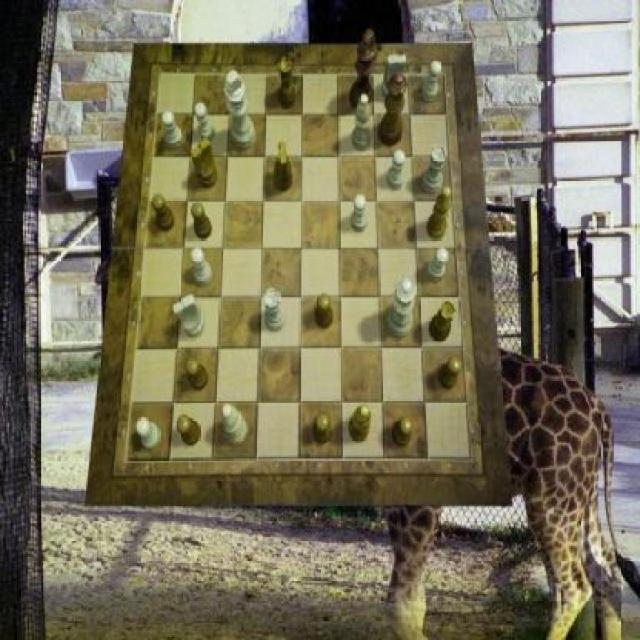bishop: (428, 186, 452, 240), (348, 403, 370, 442)
black-bishop: (349, 29, 377, 112)
black-king: (191, 137, 218, 189), (274, 143, 293, 192)
black-knight: (152, 194, 175, 231), (190, 202, 212, 239), (438, 357, 462, 389), (186, 358, 209, 391), (177, 416, 201, 446), (392, 417, 413, 448), (313, 412, 332, 445), (315, 294, 333, 328)
black-pawn: (378, 72, 408, 147)
black-queen: (429, 300, 456, 342), (279, 57, 296, 108)
black-rook: (352, 92, 372, 150), (223, 403, 249, 445)
white-bishop: (225, 71, 257, 151)
white-king: (173, 294, 204, 338), (383, 54, 408, 100)
white-knight: (196, 103, 217, 143), (422, 62, 442, 103), (137, 417, 161, 451), (190, 248, 212, 285), (426, 248, 449, 282), (162, 111, 182, 148), (350, 195, 368, 233), (388, 151, 405, 191)
white-pawn: (388, 275, 418, 338)
white-queen: (423, 146, 448, 194), (263, 289, 286, 332)
